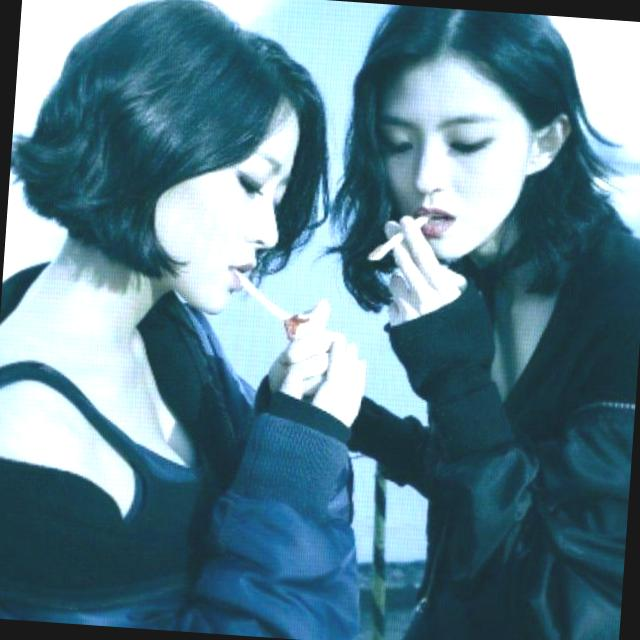smoke: (212, 245, 322, 342), (352, 200, 438, 284)
